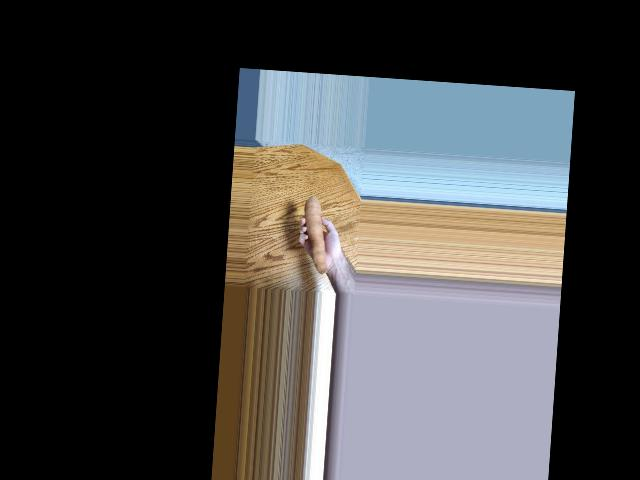sweet_potato: (296, 191, 335, 270)
